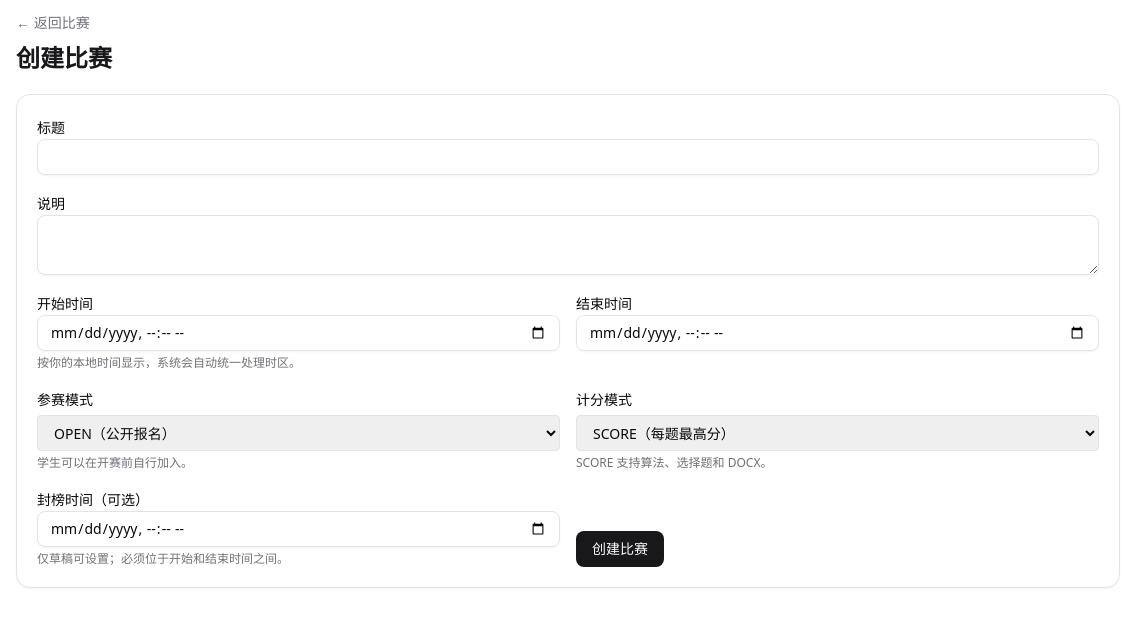
it: contest stage UI › rejects an end time that is not later than the start time
This screenshot has width=1137, height=626.
Step 1. Type "时间边界测试" into the field labelled "标题" → [568, 157], box x1=37 y1=139 x2=1099 y2=175
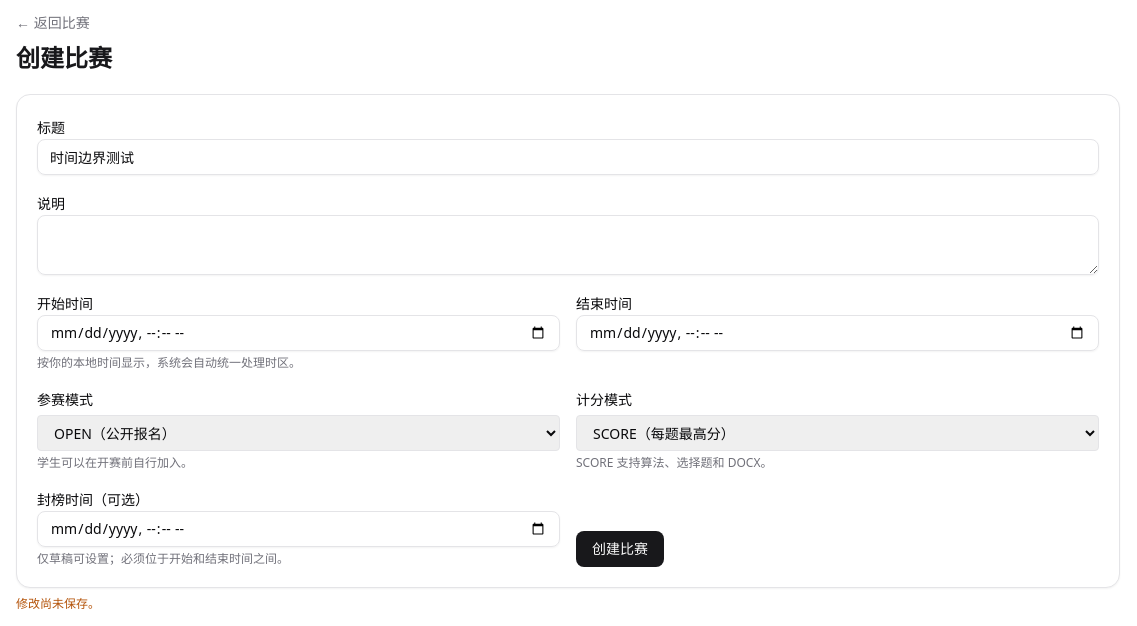
Step 2. Type "2030-08-15T10:00" into the field labelled "开始时间" → [298, 333], box x1=37 y1=315 x2=560 y2=351
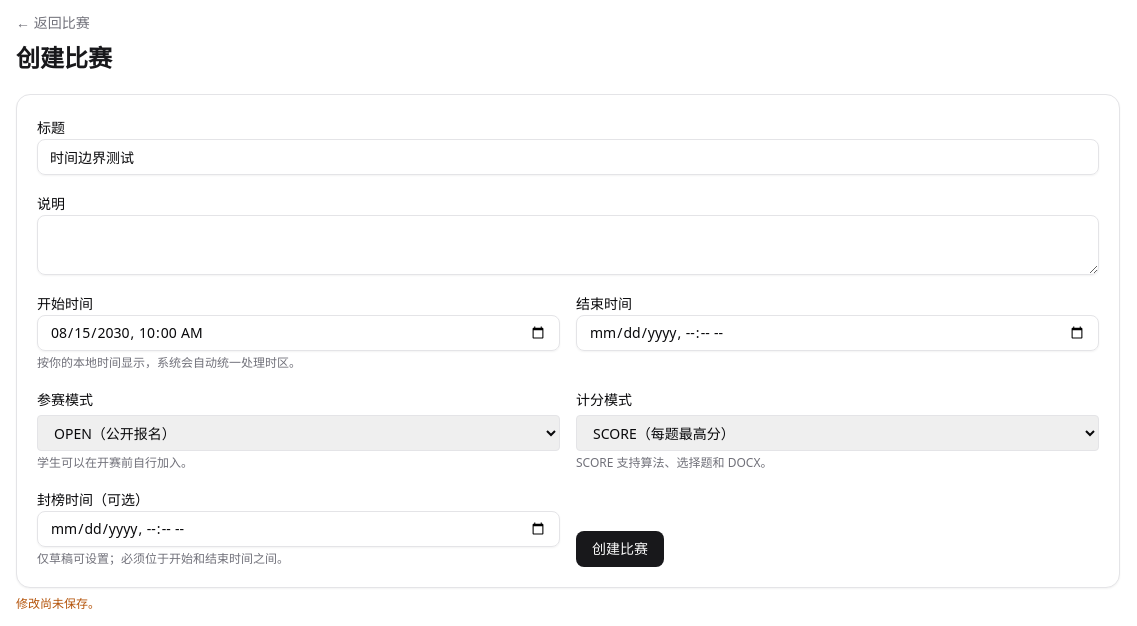
Step 3. Type "2030-08-15T09:00" into the field labelled "结束时间" → [838, 333], box x1=576 y1=315 x2=1099 y2=351
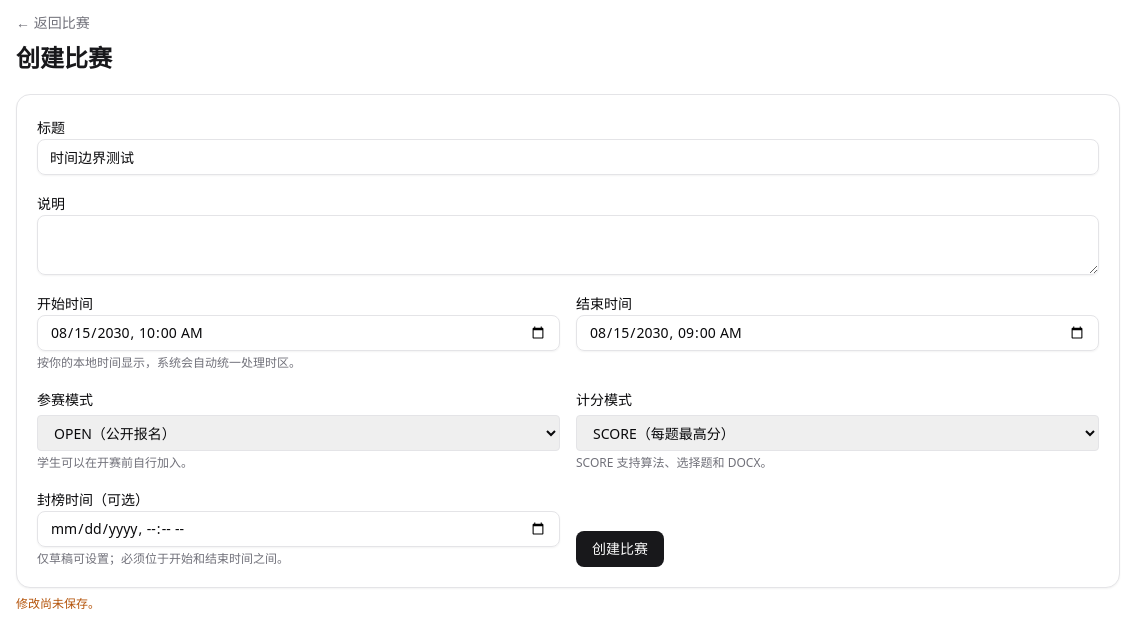
Step 4. Click the button "创建比赛" → [620, 549], box x1=576 y1=531 x2=664 y2=567
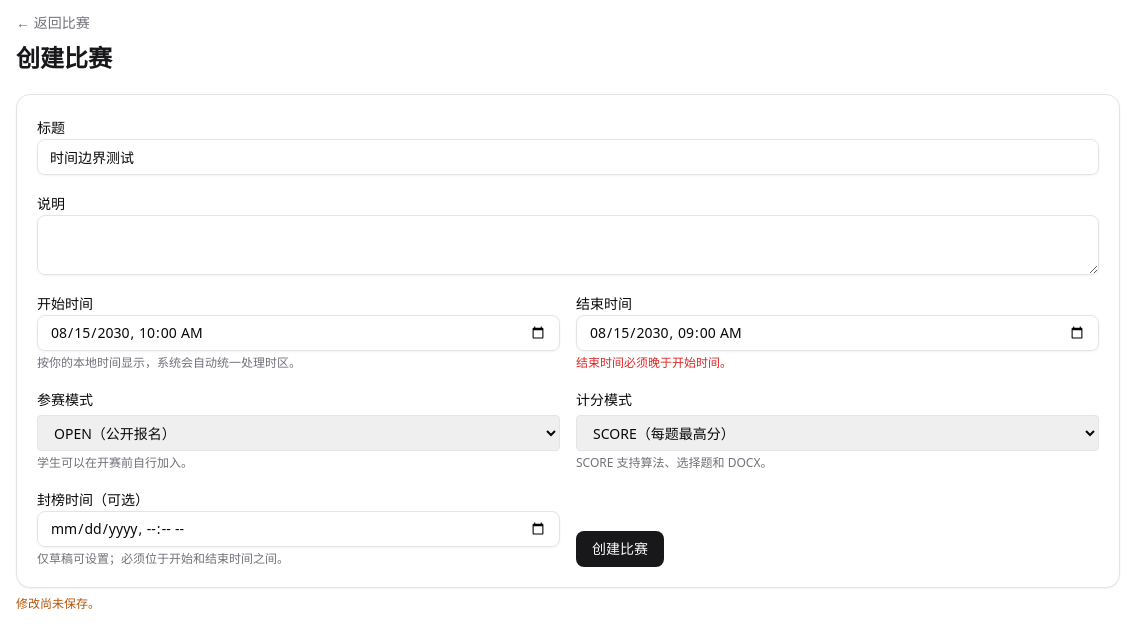
Now the text "结束时间必须晚于开始时间。" is shown, box x1=576 y1=354 x2=732 y2=371
